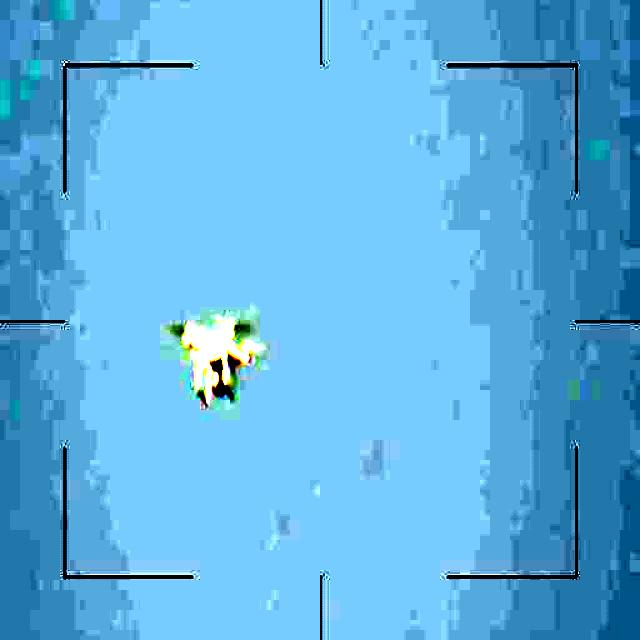bird: (170, 314, 259, 405)
